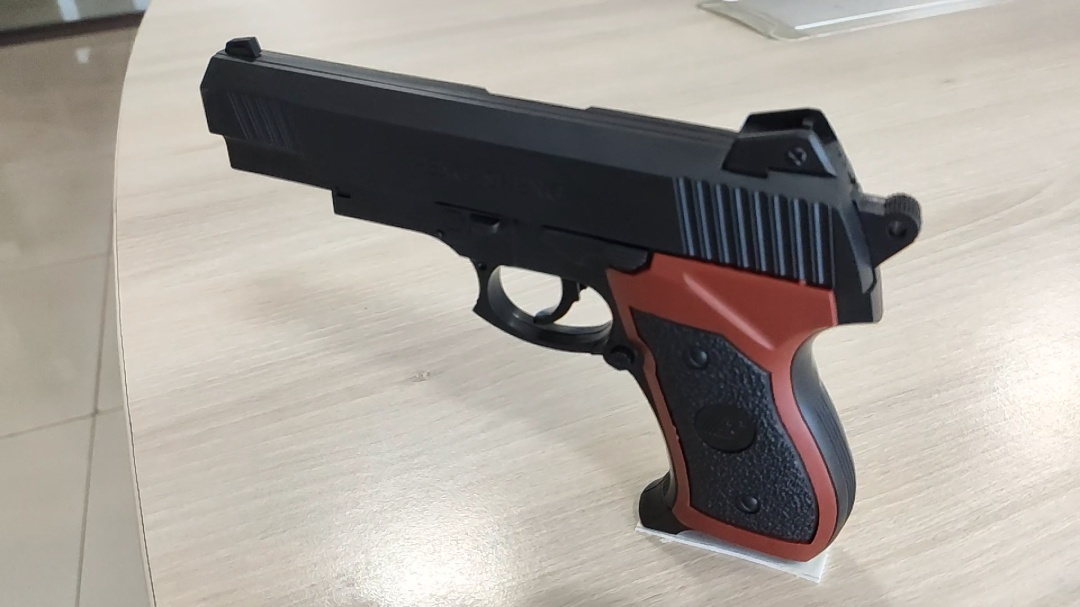gun: (198, 35, 925, 566)
